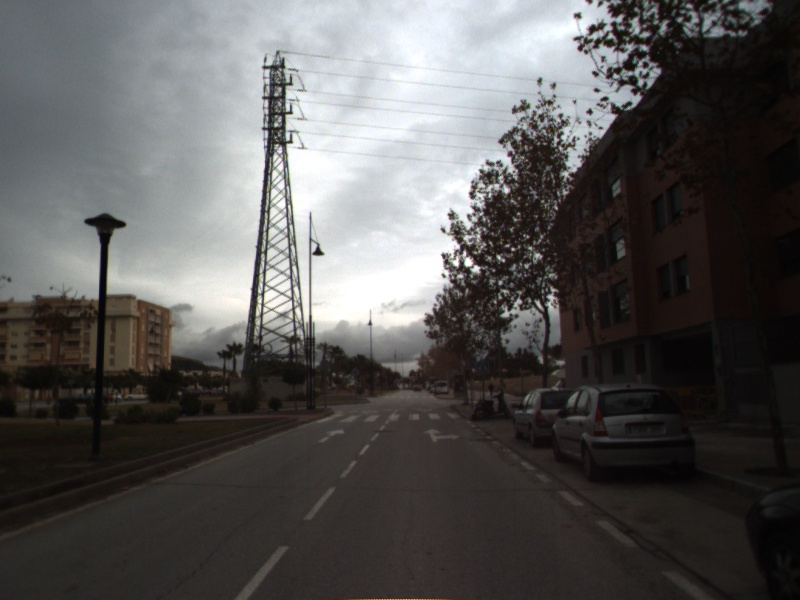STRAIGHT: (316, 426, 347, 445)
STRAIGHT_RIGHT: (420, 426, 463, 444)
